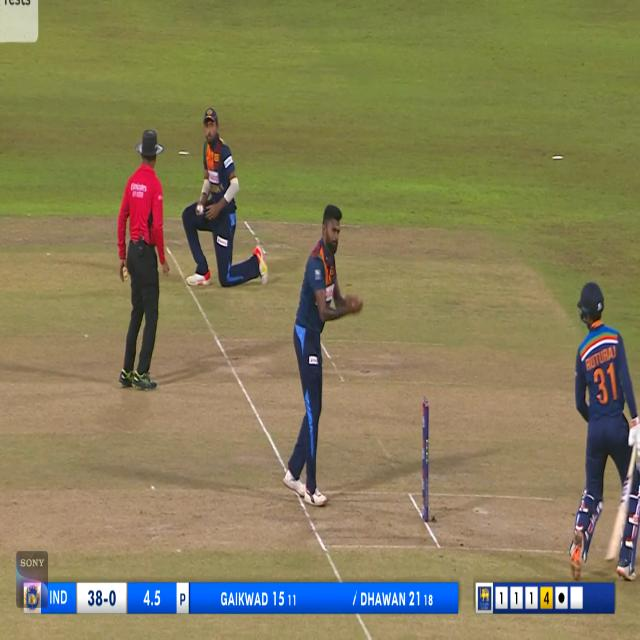ball: (197, 203, 204, 215)
